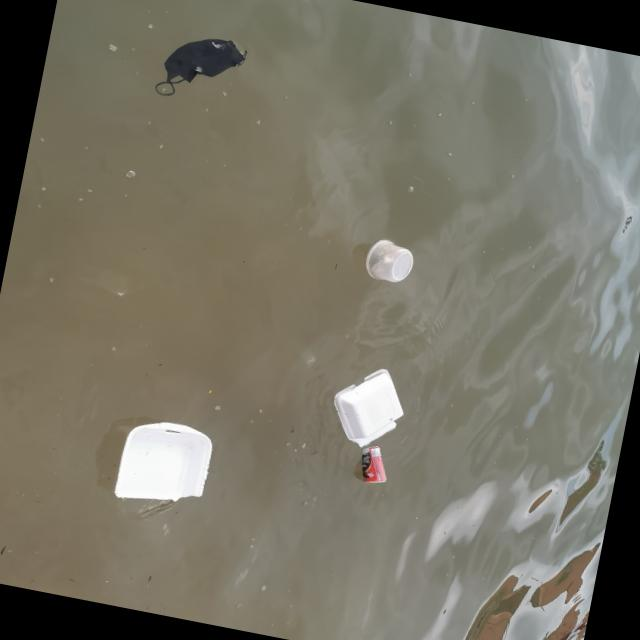can: (356, 444, 391, 488)
foam: (110, 412, 219, 515), (323, 360, 414, 457)
plastic bottle: (359, 238, 416, 286)
unknow: (147, 24, 250, 112)
